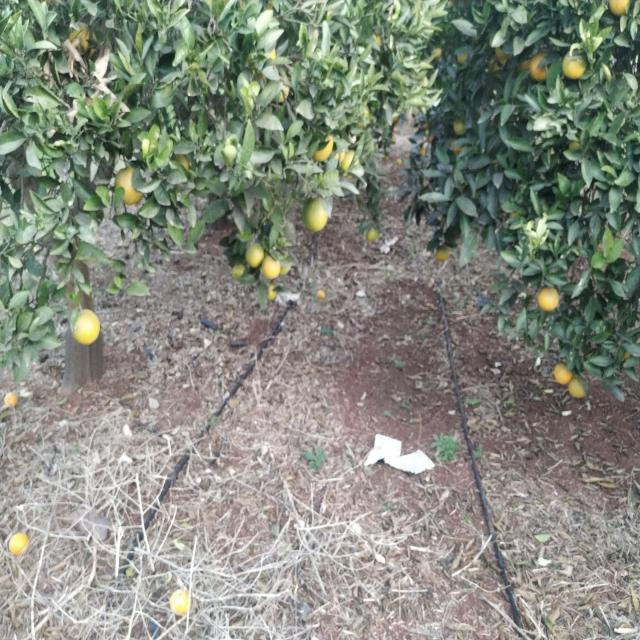Jeruk Belum Matang: (116, 167, 145, 206), (304, 198, 328, 233), (562, 52, 588, 80), (247, 245, 264, 268), (232, 263, 246, 281), (453, 120, 467, 136), (366, 227, 378, 242)
Jeruk Sudah Matang: (72, 310, 101, 346), (170, 588, 190, 619), (530, 52, 550, 83), (538, 288, 559, 314), (312, 134, 333, 160), (9, 533, 29, 557), (554, 362, 572, 386), (262, 256, 280, 278), (568, 377, 585, 399)
